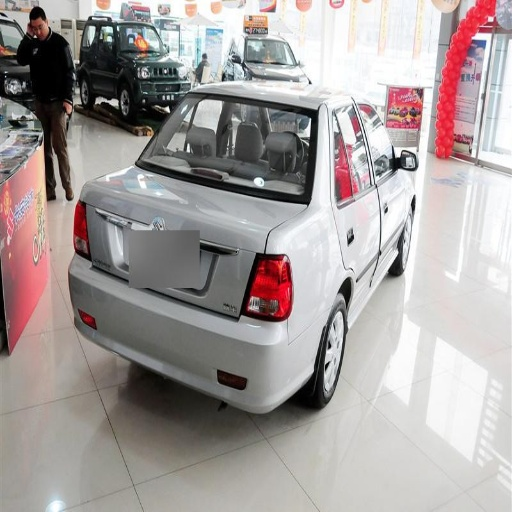back_bumper: (72, 260, 326, 411), (5, 409, 104, 501)
back_right_door: (335, 150, 379, 311)
tailgate: (162, 174, 302, 317)
trunk: (88, 169, 236, 319)
